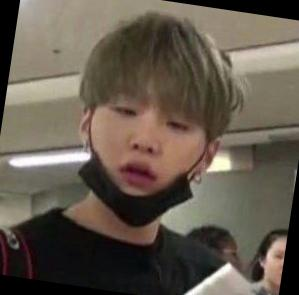mask_weared_incorrect: (79, 99, 213, 228)
without_mask: (268, 246, 284, 279)
